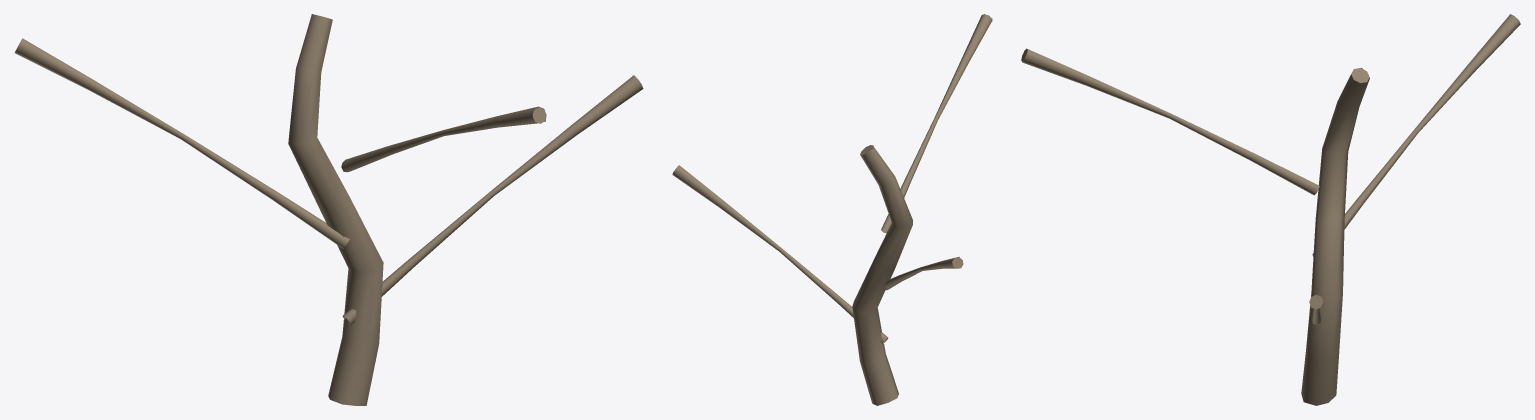
Rendered from debris_lod0.glb.
3 renders of one model, left to right at view 1: azimuth 30°, elevation 25°; view 2: azimuth 150°, elevation 25°; view 3: azimuth 270°, elevation 25°, orthographic. The views are drawn at different scales.
Visible parts, largest first — view 1: Bark; view 2: Bark; view 3: Bark.
Boxes of the visible parts, left/top/right/bottom form: Bark: left=14, top=14, right=643, bottom=405; Bark: left=672, top=14, right=992, bottom=405; Bark: left=1021, top=14, right=1520, bottom=405.
Size of the model in its own units: 1.77 by 1.36 by 1.7.
